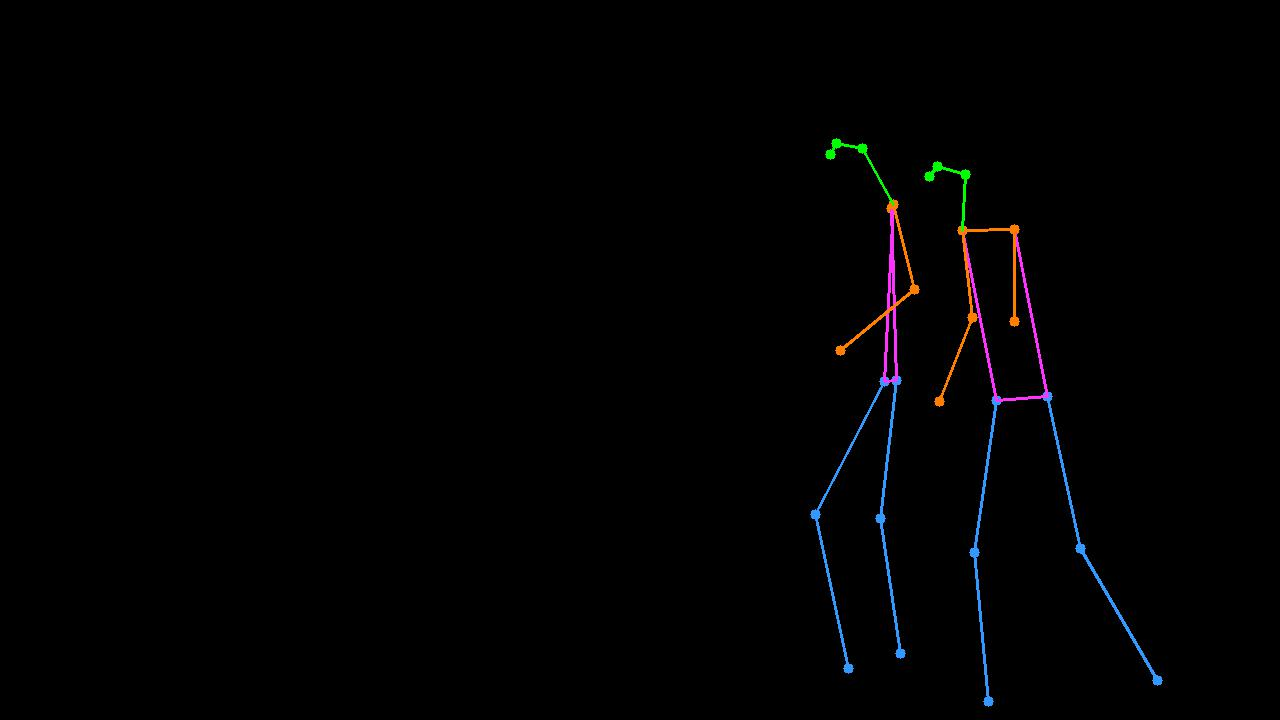normal: (920, 124, 1201, 720), (788, 105, 937, 720)
